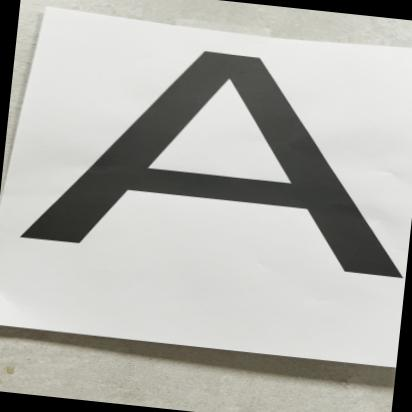seat: (21, 25, 412, 316)
